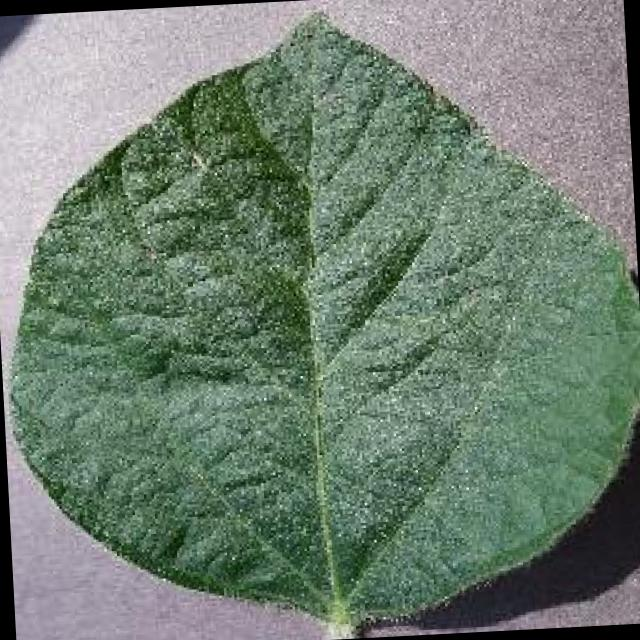healthy: (14, 15, 640, 637)
